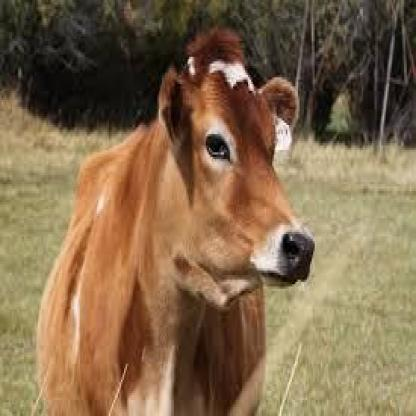cow: (38, 34, 313, 414)
